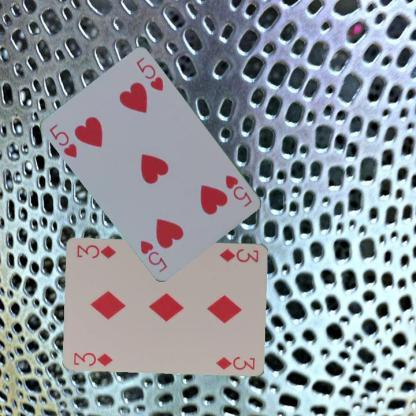3d: (217, 246, 260, 264), (71, 350, 114, 368)
5h: (47, 122, 79, 160), (222, 172, 254, 209)
